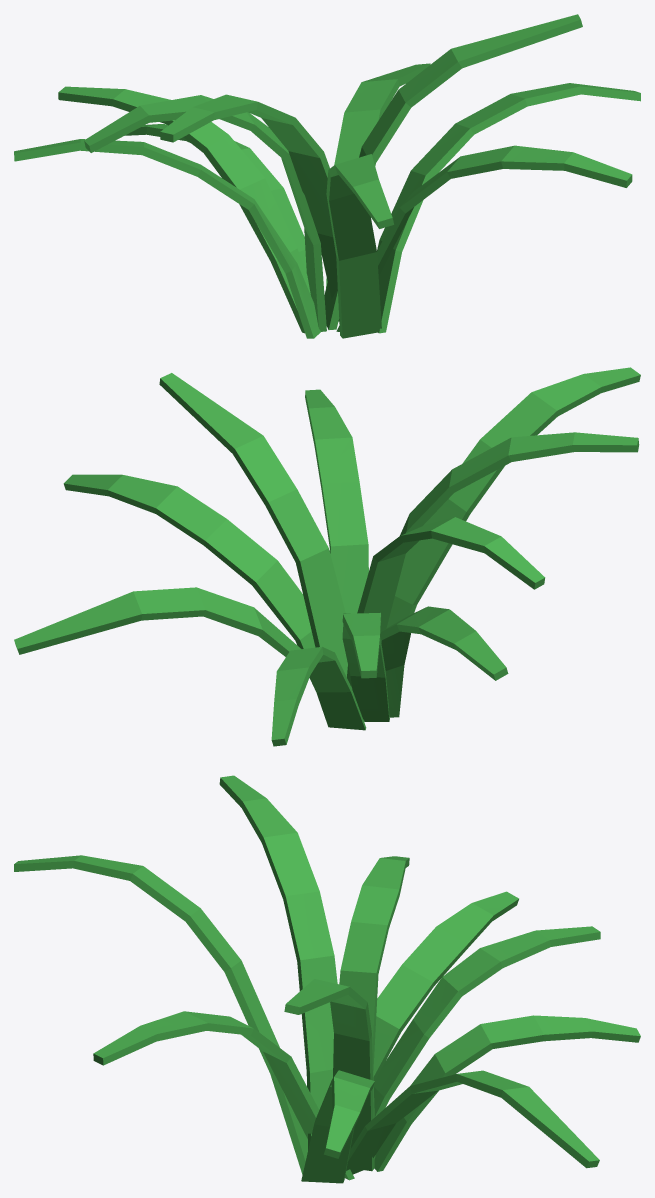
Rendered from shrub_grass_01_fbx.fbx.
3 views of the same model, one above another, from view 1: azimuth 30°, elevation 25°; view 2: azimuth 150°, elevation 25°; view 3: azimuth 270°, elevation 25° (orthographic). The views are drawn at different scales.
Parts seen in each view (by area): view 1: grass_01_Plane.001; view 2: grass_01_Plane.001; view 3: grass_01_Plane.001.
Part boxes in pixels (bbox=[...]): grass_01_Plane.001: bbox=[14, 14, 640, 338]; grass_01_Plane.001: bbox=[14, 367, 640, 746]; grass_01_Plane.001: bbox=[14, 775, 640, 1183].
Bounding box in the file's own units: 195 × 101 × 203.
